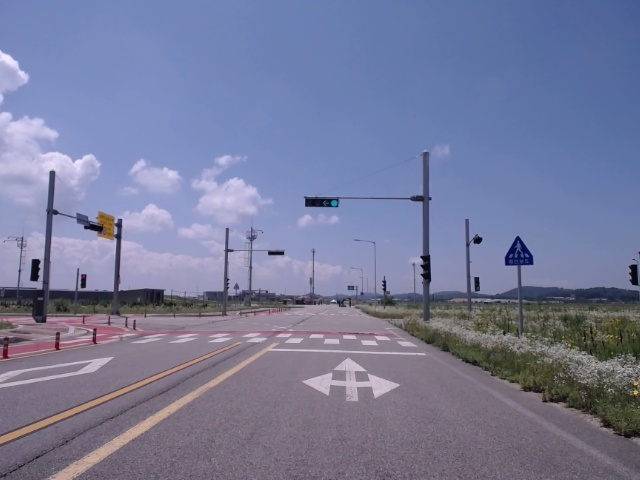all_green_4: (303, 195, 341, 209)
